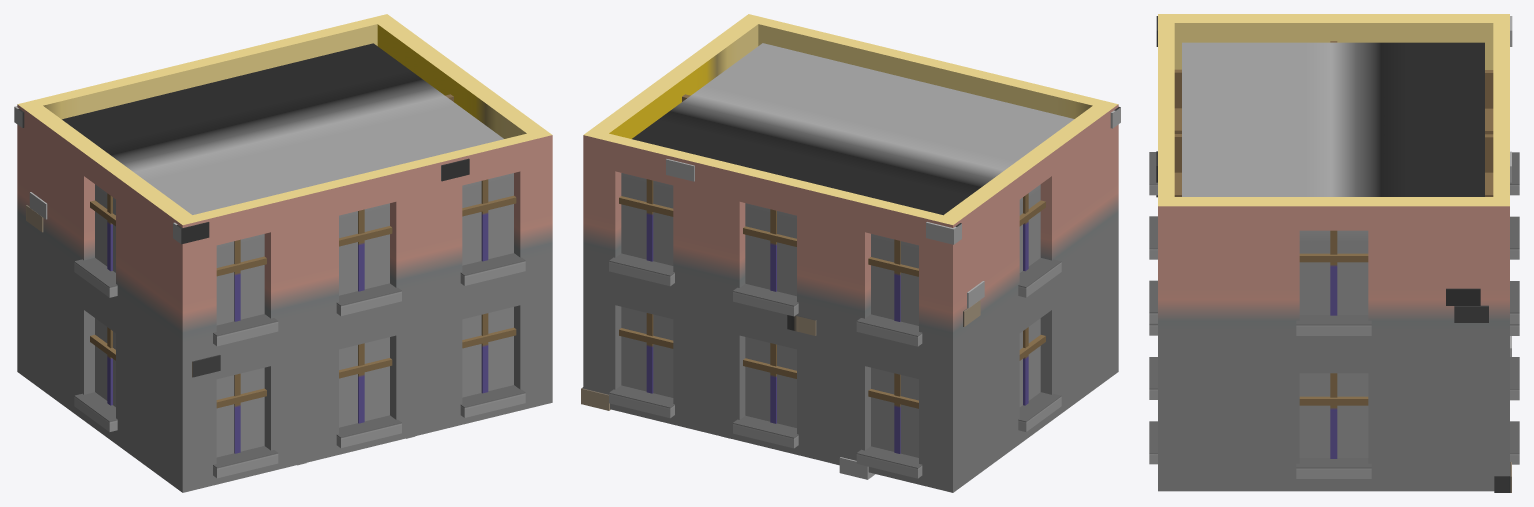
File: house2_mid.fbx
3 views of the same model, side by side, from view 1: azimuth 30°, elevation 25°; view 2: azimuth 150°, elevation 25°; view 3: azimuth 270°, elevation 25° (orthographic). The views are drawn at different scales.
Parts seen in each view (by area): view 1: polySurface300, polySurface303, polySurface178, polySurface181, polySurface169, polySurface172, polySurface160, polySurface157, polySurface239, polySurface233, polySurface253, polySurface179 (+1 smaller); view 2: polySurface300, polySurface303, polySurface193, polySurface190, polySurface205, polySurface202, polySurface217, polySurface214, polySurface239, polySurface233, polySurface266, polySurface191 (+1 smaller); view 3: polySurface300, polySurface303, polySurface236, polySurface242, polySurface244, polySurface238, polySurface243, polySurface237, polySurface282, polySurface281, polySurface205, polySurface202 (+2 smaller).
Part boxes in pixels (x1,y1,x2,y2): polySurface300: (17, 14, 552, 492); polySurface303: (62, 43, 503, 465); polySurface178: (460, 253, 525, 285); polySurface181: (460, 385, 525, 417); polySurface169: (336, 283, 401, 315); polySurface172: (336, 415, 401, 447); polySurface160: (213, 446, 278, 478); polySurface157: (213, 314, 278, 346); polySurface239: (74, 392, 117, 431); polySurface233: (74, 258, 117, 297); polySurface253: (173, 222, 209, 244); polySurface179: (481, 179, 488, 261); polySurface300: (583, 14, 1118, 492); polySurface303: (632, 43, 1074, 215); polySurface193: (609, 385, 674, 418); polySurface190: (609, 253, 674, 286); polySurface205: (733, 415, 798, 448); polySurface202: (733, 283, 798, 316); polySurface217: (856, 446, 922, 478); polySurface214: (856, 314, 922, 346); polySurface239: (1018, 392, 1061, 431); polySurface233: (1018, 258, 1061, 297); polySurface266: (926, 222, 961, 244); polySurface191: (646, 179, 653, 261); polySurface300: (1158, 14, 1509, 491); polySurface303: (1182, 42, 1484, 196); polySurface236: (1296, 315, 1371, 335); polySurface242: (1296, 458, 1371, 478); polySurface244: (1299, 396, 1368, 405); polySurface238: (1299, 253, 1368, 262); polySurface243: (1330, 373, 1337, 458); polySurface237: (1330, 230, 1337, 315); polySurface282: (1446, 288, 1480, 305); polySurface281: (1454, 305, 1488, 322); polySurface205: (1510, 357, 1519, 400); polySurface202: (1510, 216, 1519, 259).
Bounding box in the file's own units: 1414 × 978 × 1105.
